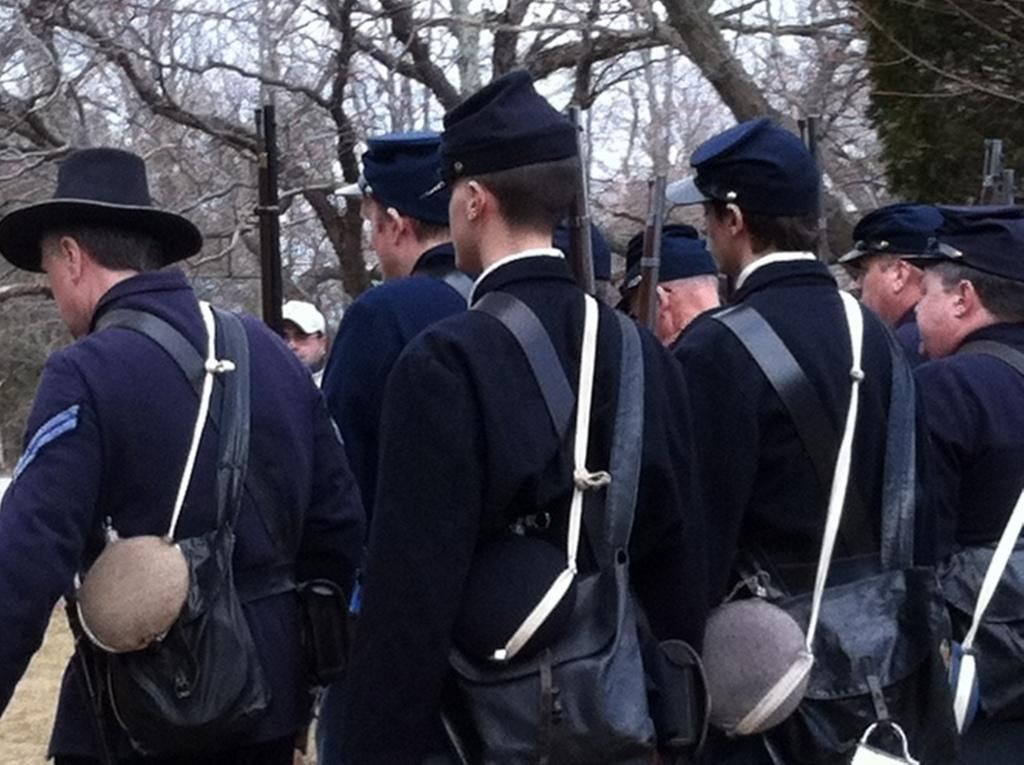Hat: (0, 144, 204, 269), (417, 66, 576, 206), (664, 116, 822, 218), (327, 127, 452, 204), (894, 204, 1022, 274), (835, 202, 941, 260), (278, 297, 324, 330)
